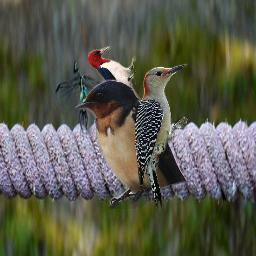Swallow: (75, 79, 188, 209)
Woodpecker: (135, 61, 190, 216), (87, 46, 136, 104)
